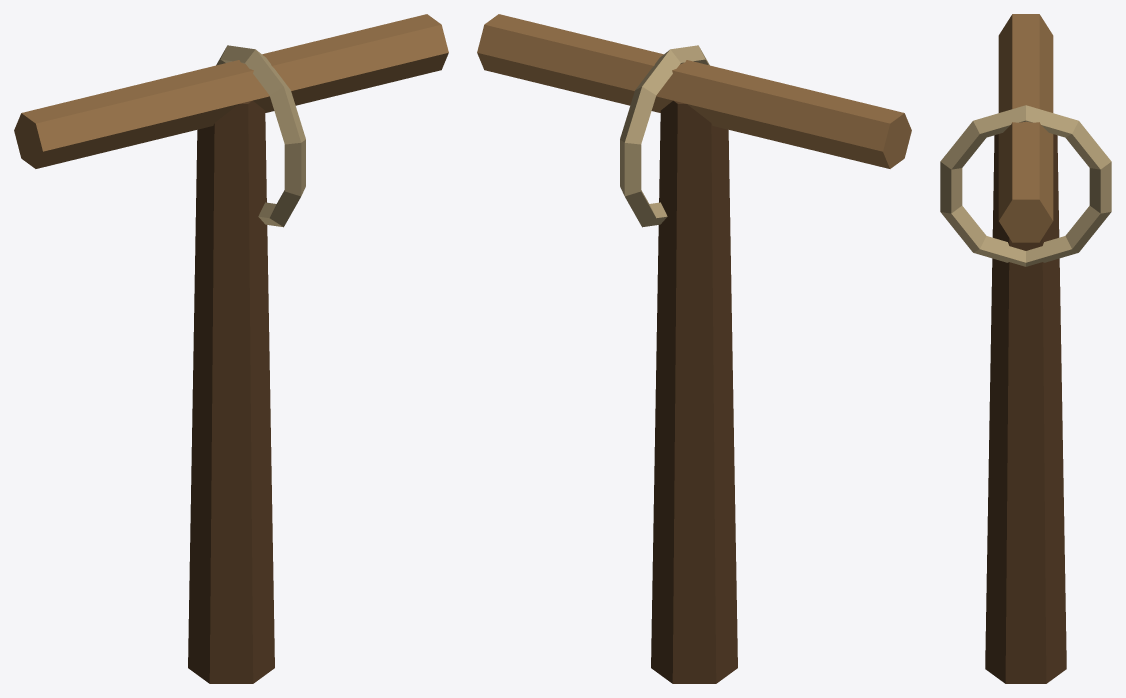
Rendered from Hunter_Bird_Snare.glb.
3 renders of one model, left to right at view 1: azimuth 30°, elevation 25°; view 2: azimuth 150°, elevation 25°; view 3: azimuth 270°, elevation 25°, orthographic. The views are drawn at different scales.
Parts seen in each view (by area): view 1: Hunter_Bird_Snare; view 2: Hunter_Bird_Snare; view 3: Hunter_Bird_Snare.
Boxes of the visible parts, left/top/right/bottom form: Hunter_Bird_Snare: left=14, top=14, right=448, bottom=683; Hunter_Bird_Snare: left=477, top=14, right=911, bottom=683; Hunter_Bird_Snare: left=940, top=14, right=1111, bottom=683.
Bounding box in the file's own units: 0.84 × 1.21 × 0.3272.
